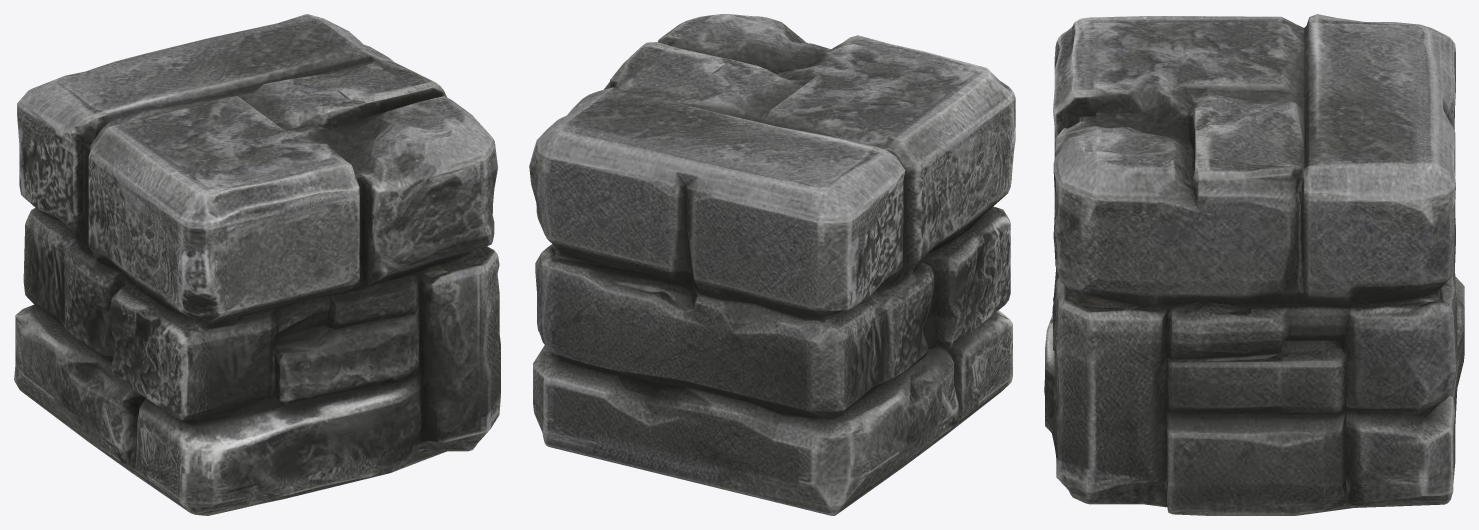
Rendered from block_iron.glb.
The picture shows the model from 3 angles, left to right: view 1: azimuth 30°, elevation 25°; view 2: azimuth 150°, elevation 25°; view 3: azimuth 270°, elevation 25°; orthographic projection. The views are drawn at different scales.
Size of the model in its own units: 1.9 by 1.72 by 1.91.
Materials: 1 (1 with a texture image).
